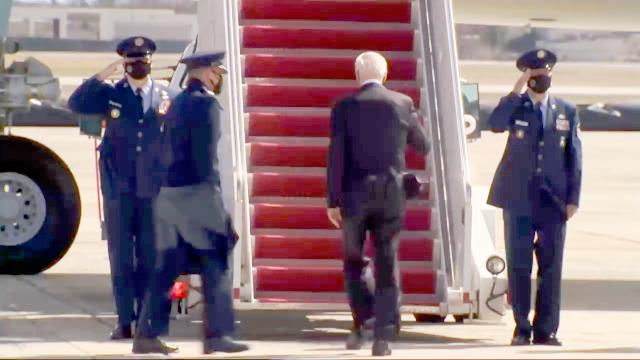berdiri: (65, 35, 185, 342), (484, 43, 590, 351)
berjalan: (318, 46, 442, 360), (128, 49, 252, 355)
